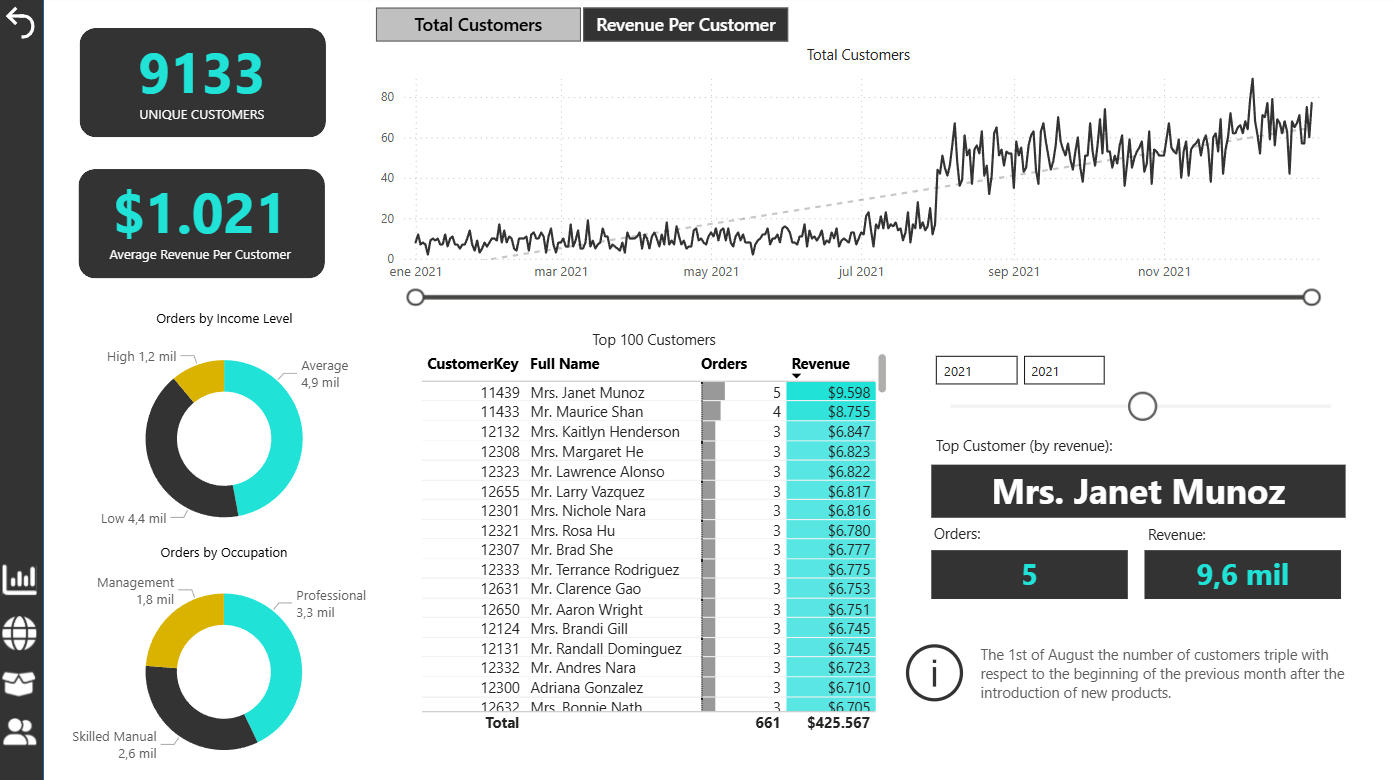

This screenshot's page, from the dashboard's own definition file:
{"tool":"powerbi","page":{"name":"Customer Detail","canvas":[1280,720],"ordinal":3},"visuals":[{"type":"actionButton","box":[2.5,513.6,45.7,39.5],"z":0,"group":"g1"},{"type":"shape","box":[77.2,29.1,225.3,100],"z":0},{"type":"actionButton","box":[2.5,562.6,45.5,39.4],"z":1000,"group":"g1"},{"type":"shape","box":[75.8,158.3,225.3,100],"z":1000},{"type":"card","fields":{"Values":["Measure Table.Total Customers"]},"box":[70.5,21.6,237.5,108],"z":2000},{"type":"actionButton","box":[2.8,610,45.1,38],"z":2000,"group":"g1"},{"type":"actionButton","box":[3.7,653.1,45.7,38.3],"z":3000,"group":"g1"},{"type":"card","fields":{"Values":["Measure Table.Average Revenue Per Customer"]},"box":[68.9,148.6,237.8,109.5],"z":3000},{"type":"shape","title":"Left Nav Background","box":[0,0,45,720.3],"z":4000},{"type":"lineChart","fields":{"Y":["Measure Table.Total Customers","Measure Table.Average Revenue Per Customer"],"Category":["Calendar Lookup.Date Hierarchy.Year","Calendar Lookup.Date Hierarchy.Start of Week","Calendar Lookup.Date Hierarchy.Date"]},"box":[344.4,44.4,888.9,242],"z":5000},{"type":"donutChart","title":"Orders by Income Level","fields":{"Category":["Customer Lookup.Income Level"],"Y":["Measure Table.Total Orders"]},"box":[65.1,286.2,289.2,221.6],"z":6000},{"type":"donutChart","title":"Orders by Occupation","fields":{"Y":["Measure Table.Total Orders"],"Category":["Customer Lookup.Occupation"]},"box":[63.8,499.7,290.5,220.3],"z":7000},{"type":"tableEx","title":"Top 100 Customers","fields":{"Values":["Customer Lookup.CustomerKey","Customer Lookup.Full Name","Measure Table.Total Orders","Measure Table.Total Revenue"]},"box":[383.8,304.1,436.5,373],"z":8000},{"type":"card","fields":{"Values":["Customer Lookup.Full Name (Customer Detail)"]},"box":[855.4,428.3,378.7,48.8],"z":9000},{"type":"card","title":"Top Customer ","fields":{"Values":["Measure Table.Total Orders (Customer Detail)"]},"box":[855.4,506.3,180,44.9],"z":10000},{"type":"card","title":"Top Customer ","fields":{"Values":["Measure Table.Total Revenue (Customer Detail)"]},"box":[1050.7,506.3,180,44.9],"z":11000},{"type":"textbox","box":[854.2,396.6,280.9,32.6],"z":12000},{"type":"textbox","box":[853.1,477.2,78,29.1],"z":13000},{"type":"textbox","box":[1048.3,478,78,29.1],"z":14000},{"type":"slicer","fields":{"Values":["Calendar Lookup.Year"]},"box":[846.9,318.9,396.8,83.7],"z":15000},{"type":"actionButton","box":[825.3,585.8,422.7,66.4],"z":16000},{"type":"actionButton","box":[3.7,4.9,45.4,39.3],"z":17000},{"type":"group","id":"g1","title":"Navegation Buttons","box":[2.5,513.6,46.9,177.8],"z":18000},{"type":"slicer","fields":{"Values":["Customer Metric Selection.Customer Metric Selection"]},"box":[322.2,3.7,427.2,44.4],"z":19000}]}

Visuals, with their boxes on the page's 1280x720 design canvas (x1, y1, x2, y2). These are canvas units, not pixel positions in the 1393x780 screenshot, which may show the page scaled, cropped or inside an application window:
actionButton: locate(2, 514, 48, 553)
shape: locate(77, 29, 302, 129)
actionButton: locate(2, 563, 48, 602)
shape: locate(76, 158, 301, 258)
card - Measure Table.Total Customers: locate(70, 22, 308, 130)
actionButton: locate(3, 610, 48, 648)
actionButton: locate(4, 653, 49, 691)
card - Measure Table.Average Revenue Per Customer: locate(69, 149, 307, 258)
"Left Nav Background" shape: locate(0, 0, 45, 720)
lineChart - Measure Table.Total Customers x Measure Table.Average Revenue Per Customer: locate(344, 44, 1233, 286)
"Orders by Income Level" donutChart: locate(65, 286, 354, 508)
"Orders by Occupation" donutChart: locate(64, 500, 354, 720)
"Top 100 Customers" tableEx: locate(384, 304, 820, 677)
card - Customer Lookup.Full Name (Customer Detail): locate(855, 428, 1234, 477)
"Top Customer " card: locate(855, 506, 1035, 551)
"Top Customer " card: locate(1051, 506, 1231, 551)
textbox: locate(854, 397, 1135, 429)
textbox: locate(853, 477, 931, 506)
textbox: locate(1048, 478, 1126, 507)
slicer - Calendar Lookup.Year: locate(847, 319, 1244, 403)
actionButton: locate(825, 586, 1248, 652)
actionButton: locate(4, 5, 49, 44)
"Navegation Buttons" group: locate(2, 514, 49, 691)
slicer - Customer Metric Selection.Customer Metric Selection: locate(322, 4, 749, 48)
